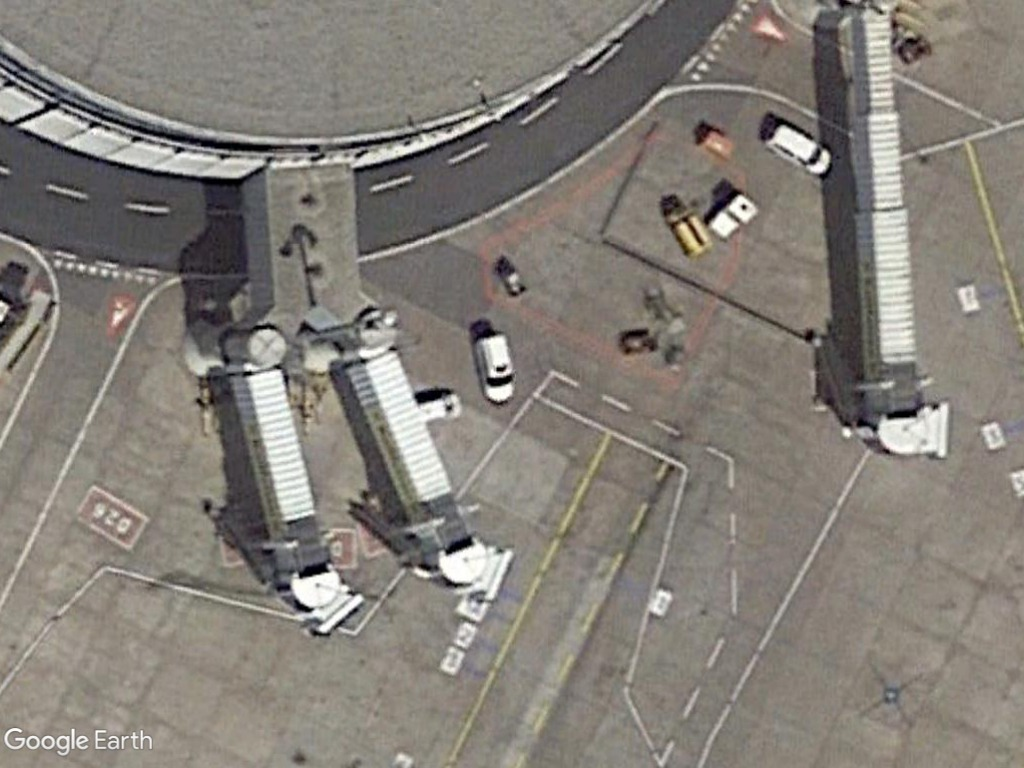van: (763, 118, 836, 182), (469, 332, 519, 406)
